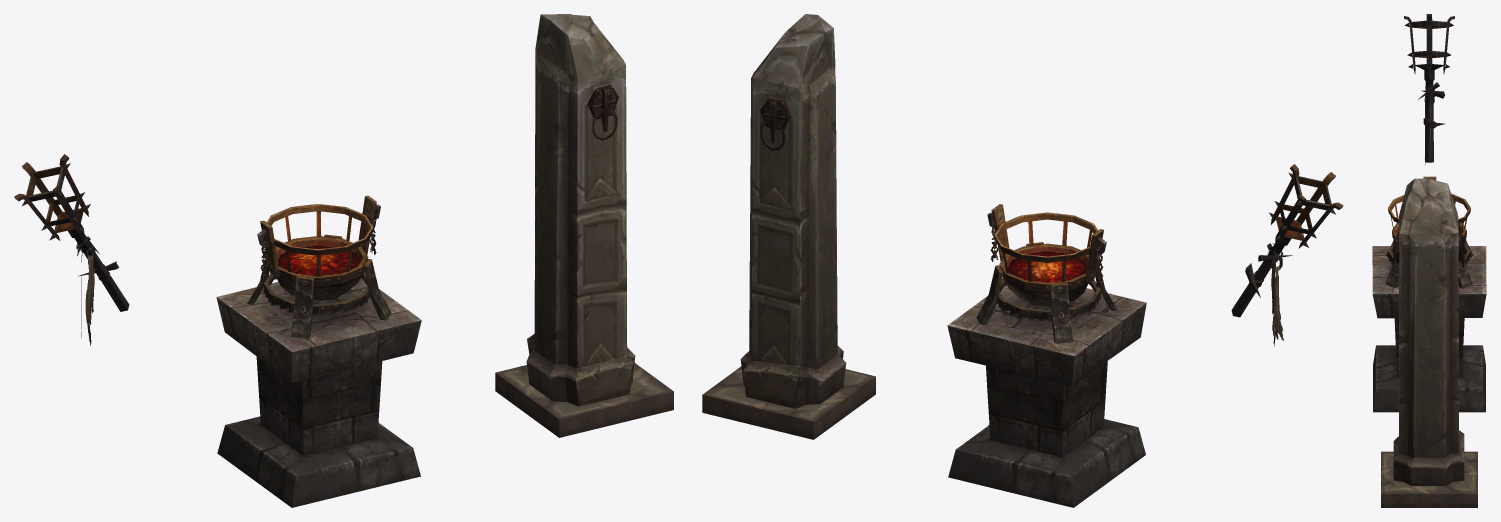
Rendered from 2_DXSD_HuoPenZhuZi_01.FBX.
3 views of the same model, side by side, from view 1: azimuth 30°, elevation 25°; view 2: azimuth 150°, elevation 25°; view 3: azimuth 270°, elevation 25° (orthographic). The views are drawn at different scales.
Visible parts, largest first — view 1: 2_DXSD_HuoZhuZi_01, 2_DXSD_HuoPenZhuZi_02, 2_DXSD_HuoPenZhuZi_01, 2_DXSD_HuoBaZhuZi_01; view 2: 2_DXSD_HuoZhuZi_01, 2_DXSD_HuoPenZhuZi_02, 2_DXSD_HuoPenZhuZi_01, 2_DXSD_HuoBaZhuZi_01; view 3: 2_DXSD_HuoZhuZi_01, 2_DXSD_HuoPenZhuZi_02, 2_DXSD_HuoBaZhuZi_01, 2_DXSD_HuoPenZhuZi_01.
Boxes of the visible parts, bbox=[...] form: 2_DXSD_HuoZhuZi_01: bbox=[495, 14, 673, 437]; 2_DXSD_HuoPenZhuZi_02: bbox=[216, 278, 421, 507]; 2_DXSD_HuoPenZhuZi_01: bbox=[247, 195, 391, 338]; 2_DXSD_HuoBaZhuZi_01: bbox=[14, 154, 129, 345]; 2_DXSD_HuoZhuZi_01: bbox=[702, 14, 875, 439]; 2_DXSD_HuoPenZhuZi_02: bbox=[947, 286, 1146, 507]; 2_DXSD_HuoPenZhuZi_01: bbox=[976, 204, 1117, 343]; 2_DXSD_HuoBaZhuZi_01: bbox=[1231, 164, 1343, 346]; 2_DXSD_HuoZhuZi_01: bbox=[1381, 178, 1477, 507]; 2_DXSD_HuoPenZhuZi_02: bbox=[1372, 246, 1486, 412]; 2_DXSD_HuoBaZhuZi_01: bbox=[1404, 14, 1454, 164]; 2_DXSD_HuoPenZhuZi_01: bbox=[1385, 176, 1473, 288].
Size of the model in its own units: 633 by 384 by 132.
